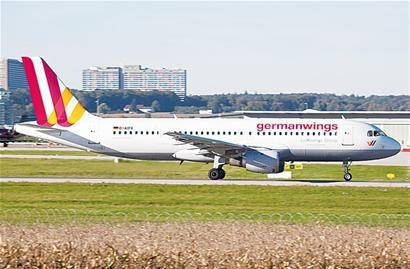airplane: (9, 54, 400, 182)
